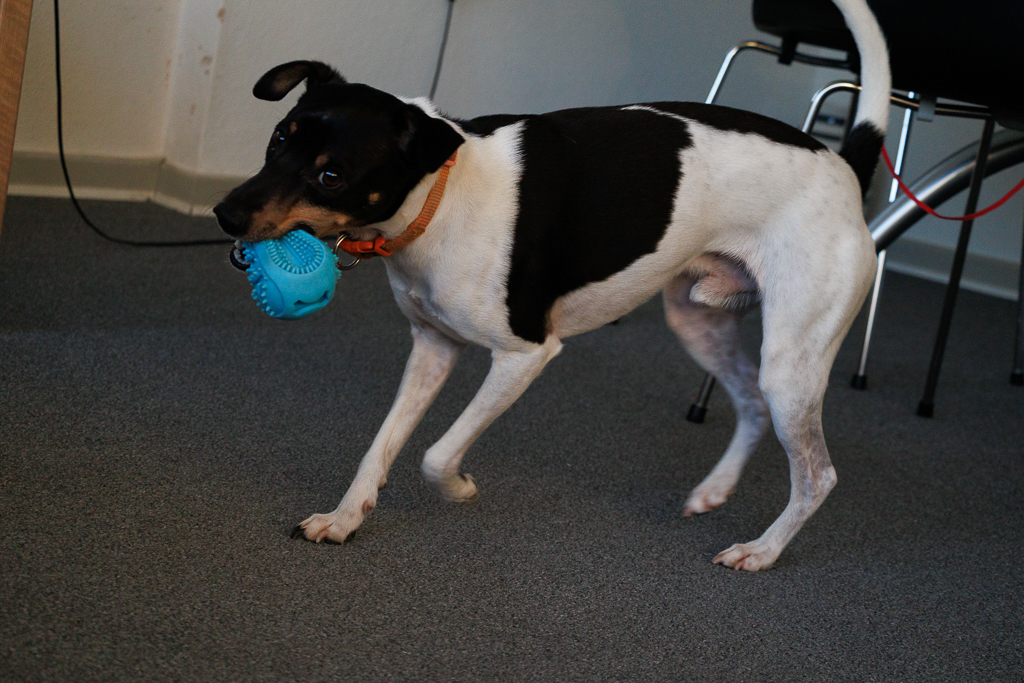Dog: (209, 0, 903, 580)
